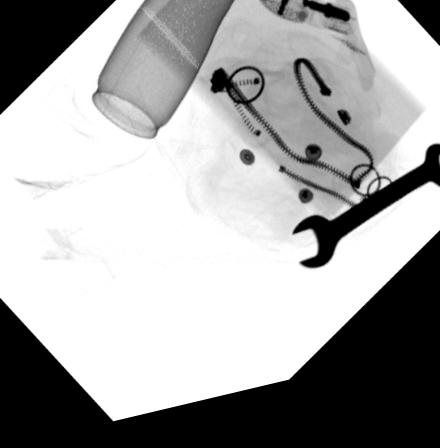Wrench: (289, 164, 440, 286)
